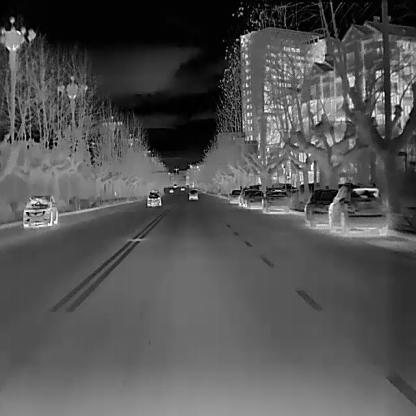car: (327, 182, 386, 237), (303, 188, 346, 228), (21, 194, 58, 228), (260, 188, 288, 214), (238, 189, 262, 207), (146, 190, 161, 206), (228, 189, 242, 203), (188, 189, 198, 199), (168, 188, 172, 192), (172, 183, 176, 187), (180, 186, 183, 190)
